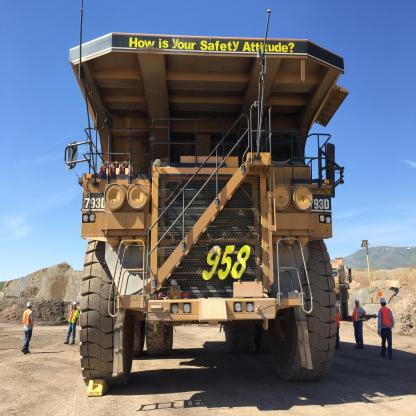dump_truck: (66, 24, 346, 388)
person: (379, 297, 397, 360), (17, 300, 33, 356), (352, 296, 366, 349), (68, 298, 80, 344)
